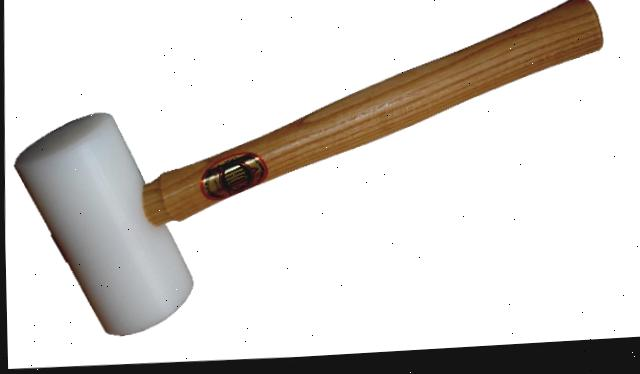hammer: (0, 0, 613, 355)
